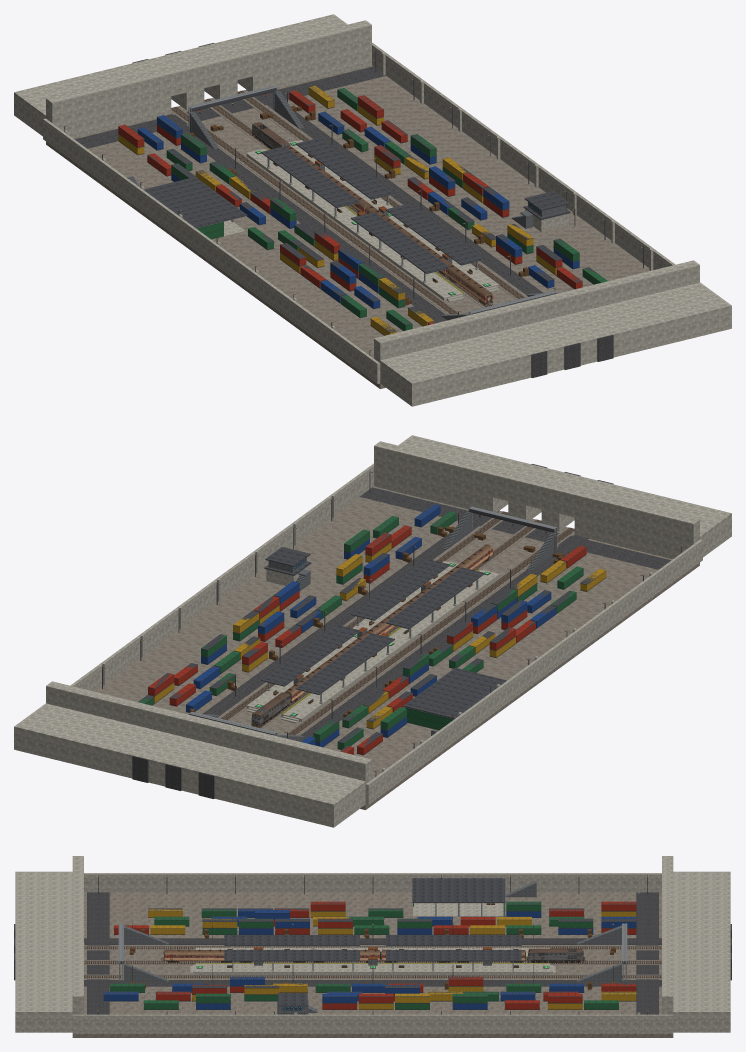
The model's file is railyard.glb.
The picture shows the model from 3 angles, top to bottom: view 1: azimuth 30°, elevation 25°; view 2: azimuth 150°, elevation 25°; view 3: azimuth 270°, elevation 25°; orthographic projection. The views are drawn at different scales.
Parts seen in each view (by area): view 1: yard_concrete, yard_gravel, yard_metal_dark, yard_asphalt, yard_corr_a, yard_corr_c, yard_corr_b, yard_corr_d, yard_sleeper, yard_plate, yard_steel, yard_wood (+2 smaller); view 2: yard_concrete, yard_gravel, yard_metal_dark, yard_asphalt, yard_corr_c, yard_corr_a, yard_corr_b, yard_corr_d, yard_sleeper, yard_plate, yard_wood, yard_steel (+2 smaller); view 3: yard_concrete, yard_gravel, yard_metal_dark, yard_asphalt, yard_corr_c, yard_corr_a, yard_corr_b, yard_corr_d, yard_plate, yard_sleeper, yard_steel, yard_metal (+4 smaller).
Boxes of the visible parts, bbox=[...] form: yard_concrete: bbox=[14, 14, 731, 406]; yard_gravel: bbox=[46, 65, 649, 388]; yard_metal_dark: bbox=[64, 50, 643, 355]; yard_asphalt: bbox=[75, 43, 613, 377]; yard_corr_a: bbox=[118, 90, 582, 324]; yard_corr_c: bbox=[166, 88, 607, 330]; yard_corr_b: bbox=[137, 111, 579, 308]; yard_corr_d: bbox=[118, 85, 561, 335]; yard_sleeper: bbox=[171, 91, 524, 313]; yard_plate: bbox=[127, 90, 566, 320]; yard_steel: bbox=[171, 91, 523, 313]; yard_wood: bbox=[183, 105, 528, 305]; yard_concrete: bbox=[14, 435, 731, 827]; yard_gravel: bbox=[94, 486, 699, 809]; yard_metal_dark: bbox=[102, 471, 681, 776]; yard_asphalt: bbox=[132, 464, 670, 798]; yard_corr_c: bbox=[139, 511, 583, 749]; yard_corr_a: bbox=[148, 525, 586, 754]; yard_corr_b: bbox=[186, 504, 556, 747]; yard_corr_d: bbox=[148, 542, 606, 728]; yard_sleeper: bbox=[221, 511, 574, 735]; yard_plate: bbox=[204, 511, 556, 741]; yard_wood: bbox=[189, 526, 564, 717]; yard_steel: bbox=[222, 512, 574, 734]; yard_concrete: bbox=[15, 856, 730, 1033]; yard_gravel: bbox=[72, 892, 673, 1037]; yard_metal_dark: bbox=[98, 874, 647, 1014]; yard_asphalt: bbox=[14, 892, 731, 1014]; yard_corr_c: bbox=[110, 901, 618, 1009]; yard_corr_a: bbox=[114, 901, 636, 1009]; yard_corr_b: bbox=[103, 909, 636, 1009]; yard_corr_d: bbox=[148, 909, 636, 1009]; yard_plate: bbox=[124, 881, 621, 1012]; yard_sleeper: bbox=[84, 946, 661, 978]; yard_steel: bbox=[84, 946, 661, 977]; yard_metal: bbox=[118, 903, 627, 981].
Bounding box in the file's own units: 118 × 16 × 251.
Materials: 26 (23 with a texture image).
